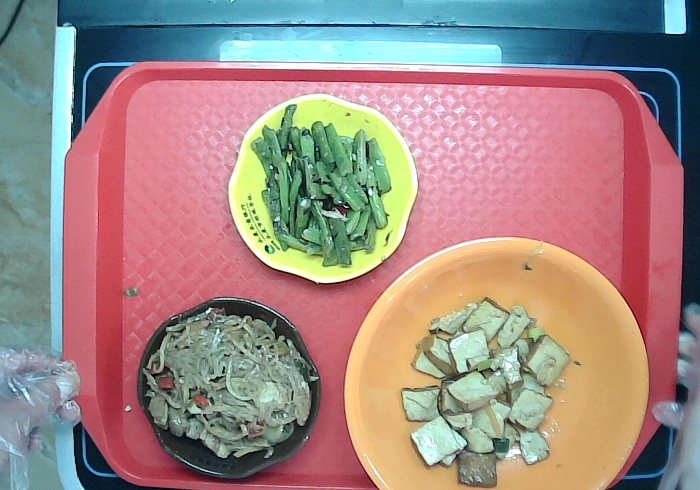YKMZ-Huang_Se_Ao_Bian_Wan: (221, 90, 423, 286)
YKMZ-Ju_Se_Tang_Wan: (337, 231, 654, 490)
YKMZ-Ka_Fei_Ao_Bian_Wan: (132, 288, 328, 482)
